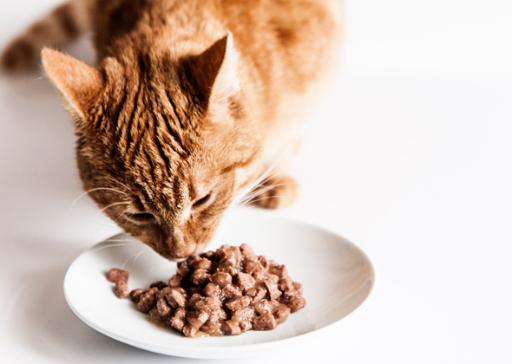cat_eating: (2, 0, 374, 358)
